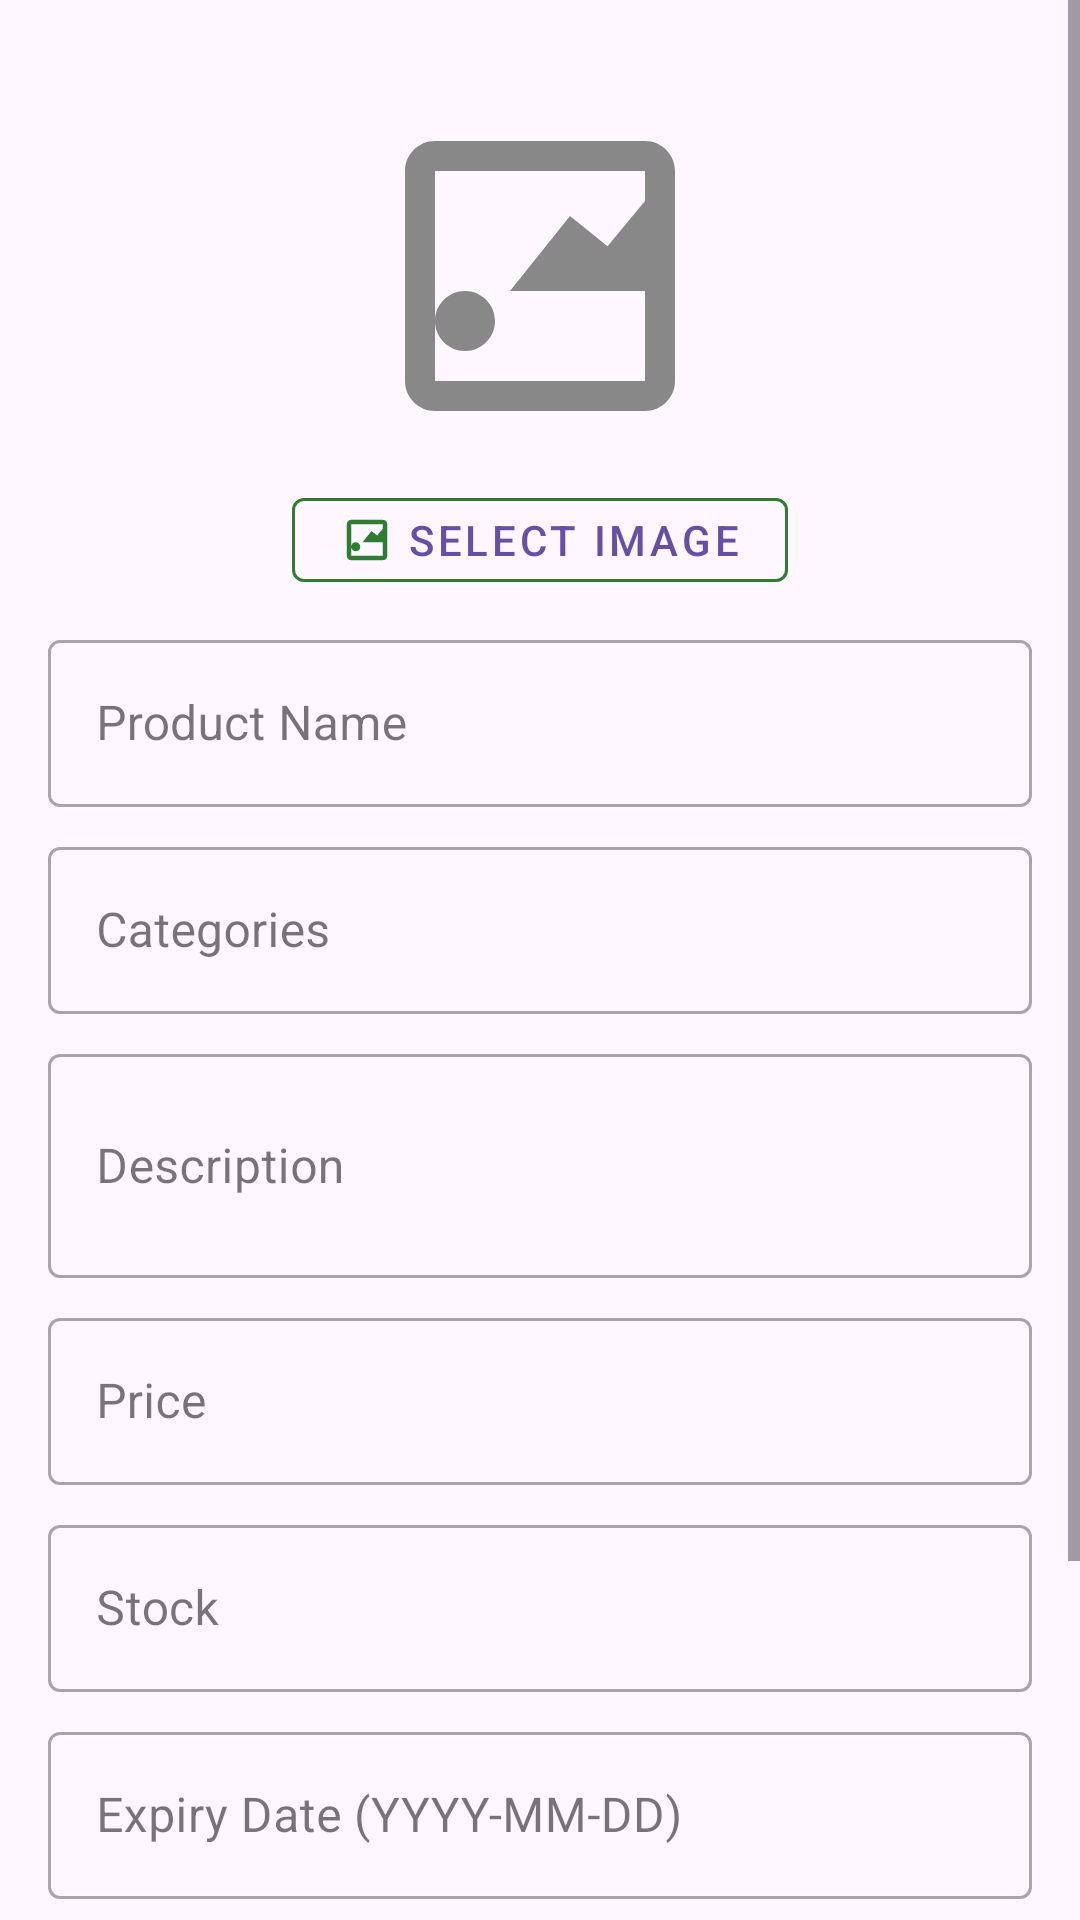

Icons on this 1080x1920 Android screen, each with the point to tap as [x,y]:
add photo: [540,276]
